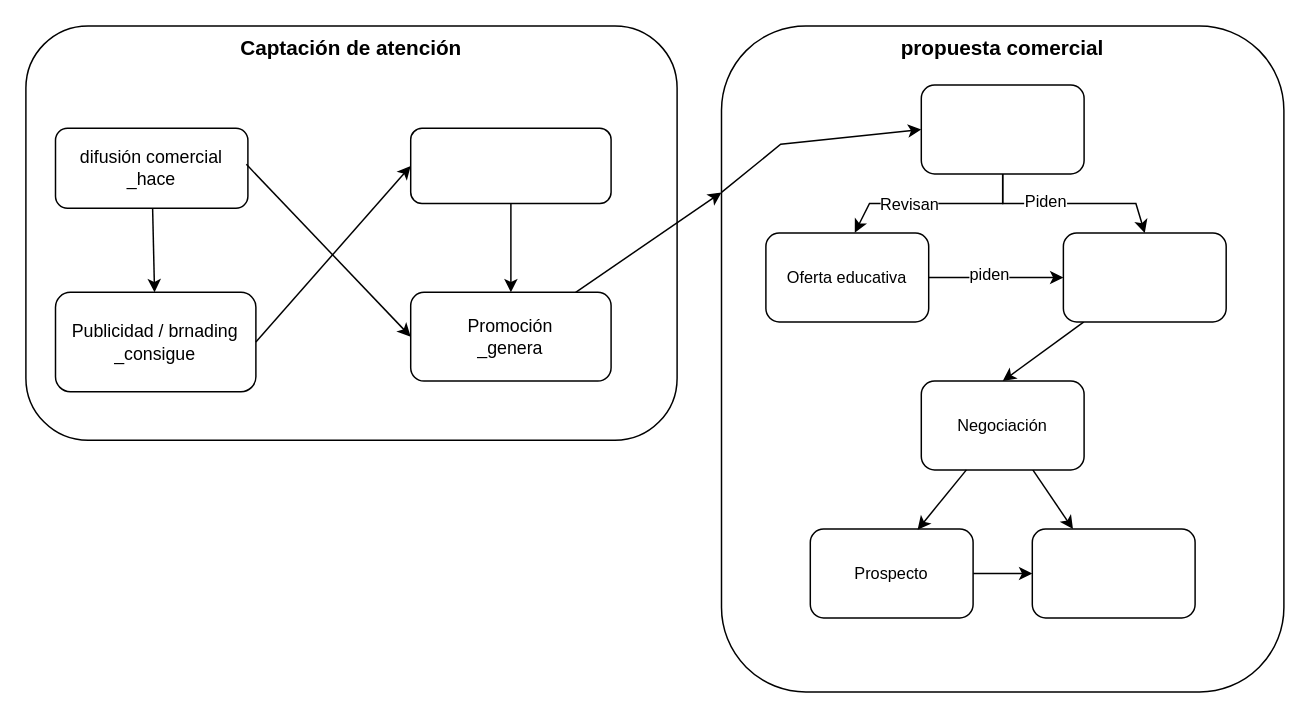
Some shapes in this 1310 by 718 pixel diagram are drawn without their labels. Here are the shapes that lost their labels. From the top down, the centre of each, then its label:
(x=1002, y=129): Interesados de propuesta
(x=510, y=165): Interesados del negocio _ven
(x=1144, y=277): Sesion informativa
(x=1113, y=573): cliente
